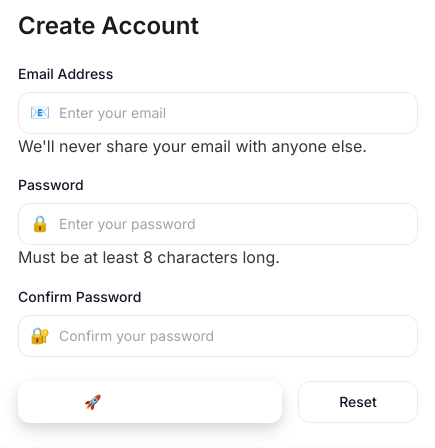
Test: Form Integration › Form Validation › shows error for empty email field
This screenshot has width=435, height=448.
Click the button "🚀 Create Account". click: coordinates (150, 402)
box: [18, 381, 282, 423]
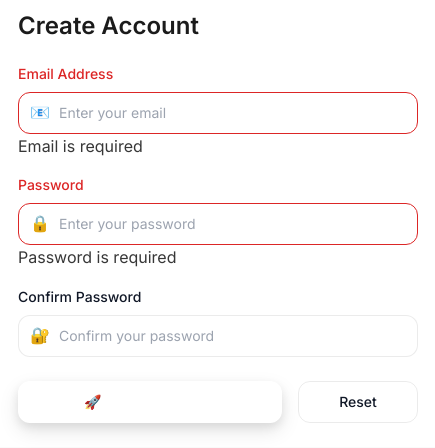
Check: the text "Email is required" is shown, box [18, 136, 143, 156]
